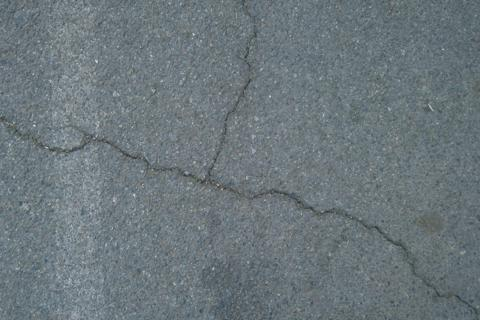crack: (204, 178, 409, 249), (0, 114, 207, 183), (207, 1, 262, 181), (402, 243, 480, 316)
